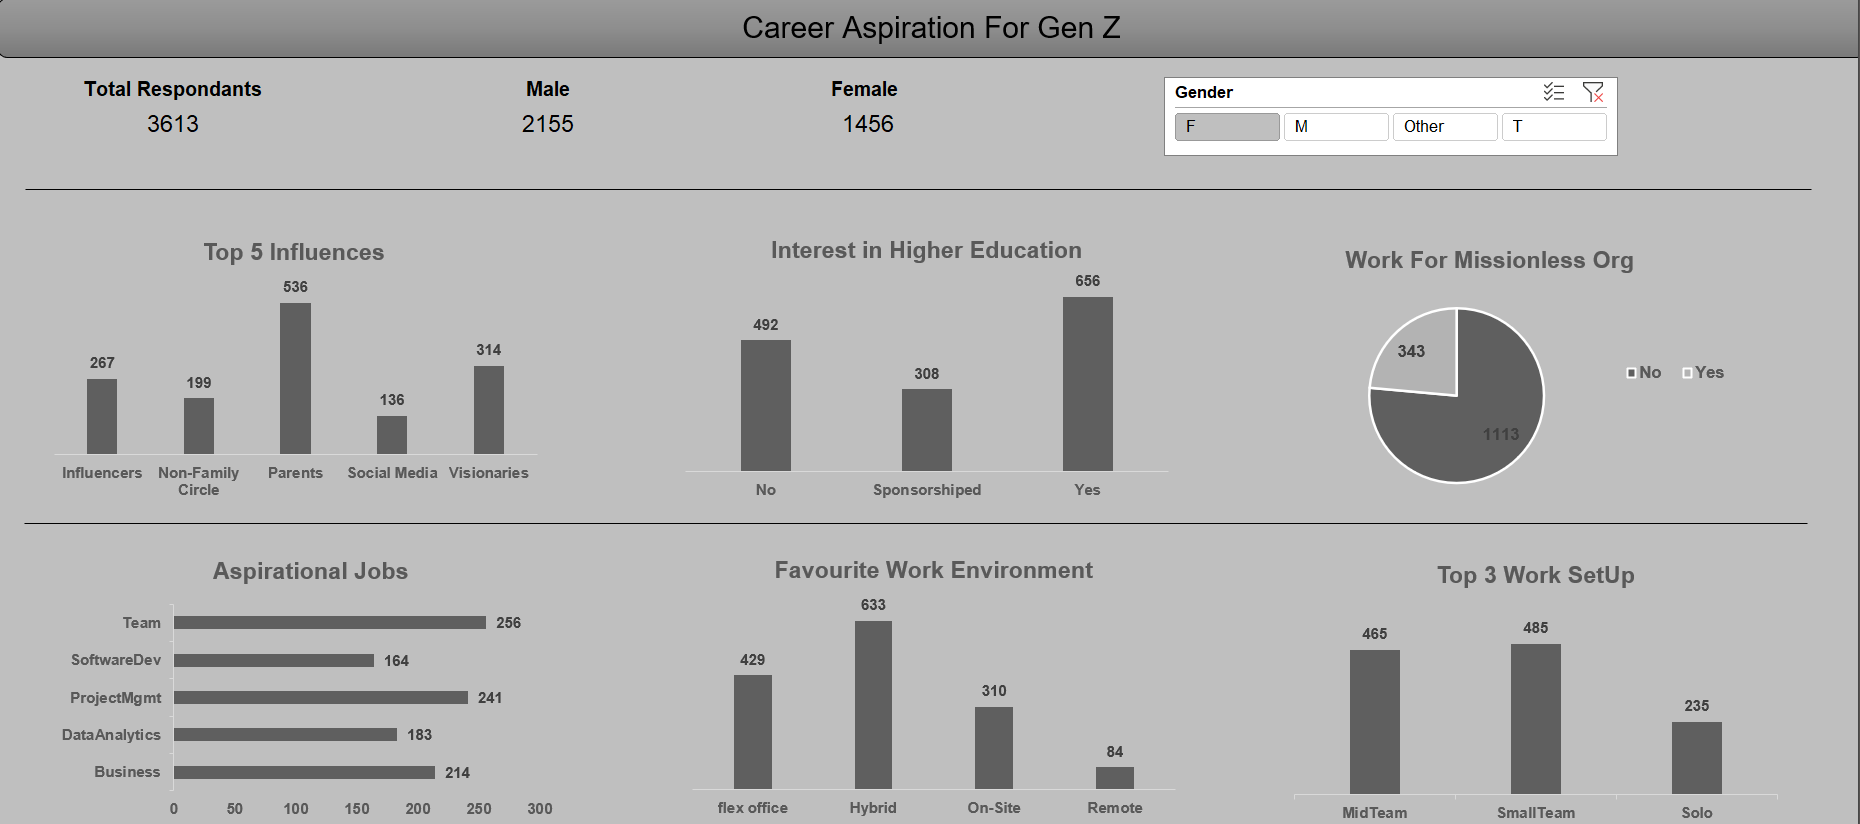

The page's visual inventory and layout, read from the dashboard file:
{"tool":"powerbi","page":{"name":"Page 2","canvas":[1280,720],"ordinal":1},"visuals":[{"type":"card","title":"Participants","fields":{"Values":["Data.TotalParticipants"]},"box":[19,65.2,213.2,81.5],"z":0},{"type":"card","title":"Pin Code","fields":{"Values":["Count(Data.Pin Code)"]},"box":[255.2,65.2,213.2,81.5],"z":1000},{"type":"card","title":"Male Count","fields":{"Values":["Data.MaleCount"]},"box":[492.8,65.2,213.2,81.5],"z":2000},{"type":"card","title":"Female Count","fields":{"Values":["Data.FemaleCount"]},"box":[722.3,65.2,213.2,81.5],"z":3000},{"type":"slicer","title":"Gender","fields":{"Values":["Data.Gender"]},"box":[966,65,273,81],"z":4000},{"type":"textbox","title":"Manager Aspirations Insights and Recommendations","box":[965.7,157.1,272.9,547.1],"z":5000},{"type":"pieChart","title":"Gen Z''s Willingness To Work For A Company Without A Clear Mission","fields":{"Category":["Data.Missionless Org"],"Y":["CountNonNull(Data.Missionless Org)"]},"box":[19.2,156.4,450,250],"z":6000},{"type":"clusteredColumnChart","title":"Impart Of Misaligned Missions On Gen Z Career Choices","fields":{"Category":["Data.Misaligned Mission Org"],"Y":["CountNonNull(Data.Misaligned Mission Org)"]},"box":[484.4,157.8,450.1,248.4],"z":7000},{"type":"clusteredColumnChart","fields":{"Category":["Data.7 Year or More in Org"],"Y":["CountNonNull(Data.7 Year or More in Org)"]},"box":[18.3,431,449.3,249.3],"z":8000},{"type":"clusteredColumnChart","fields":{"Y":["Sum(Data.No Social Impact Org)"],"Category":["Data.No Social Impact Org"]},"box":[484,431,450,250],"z":9000},{"type":"textbox","box":[0,0,1280.3,54.9],"z":9001}]}

Visuals, with their boxes on the page's 1280x720 design canvas (x1, y1, x2, y2). These are canvas units, not pixel positions in the 1860x824 screenshot, which may show the page scaled, cropped or inside an application window:
"Participants" card: bbox=[19, 65, 232, 147]
"Pin Code" card: bbox=[255, 65, 468, 147]
"Male Count" card: bbox=[493, 65, 706, 147]
"Female Count" card: bbox=[722, 65, 936, 147]
"Gender" slicer: bbox=[966, 65, 1239, 146]
"Manager Aspirations Insights and Recommendations" textbox: bbox=[966, 157, 1239, 704]
"Gen Z''s Willingness To Work For A Company Without A Clear Mission" pieChart: bbox=[19, 156, 469, 406]
"Impart Of Misaligned Missions On Gen Z Career Choices" clusteredColumnChart: bbox=[484, 158, 934, 406]
clusteredColumnChart - Data.7 Year or More in Org x CountNonNull(Data.7 Year or More in Org): bbox=[18, 431, 468, 680]
clusteredColumnChart - Sum(Data.No Social Impact Org) x Data.No Social Impact Org: bbox=[484, 431, 934, 681]
textbox: bbox=[0, 0, 1280, 55]
